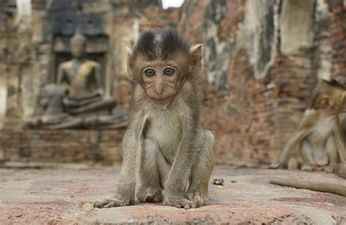monkey: (58, 22, 271, 213)
